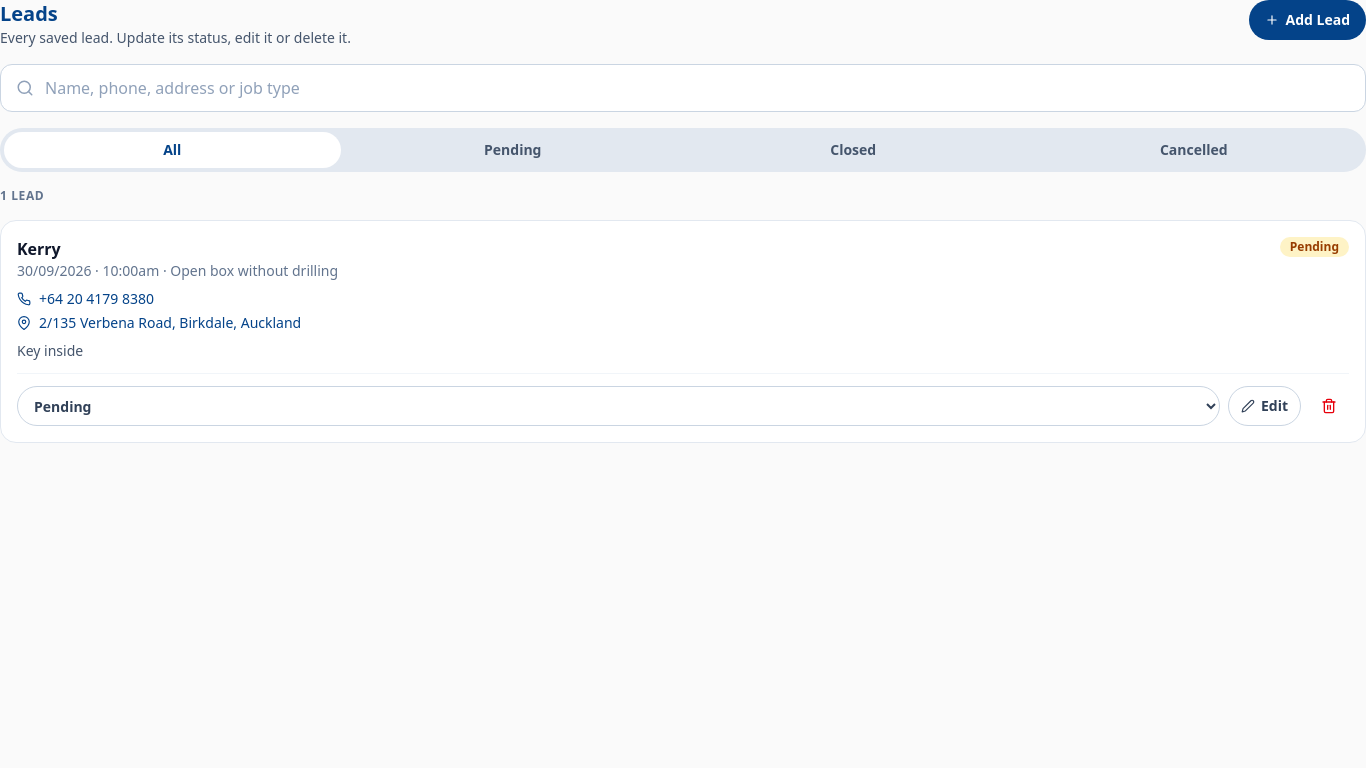
Scenario: LeadHistory › asks for a reason before cancelling a lead
Step 1. Select "Cancelled" in the dropdown named "Status for Kerry" → (618, 406), box [17,386,1220,426]
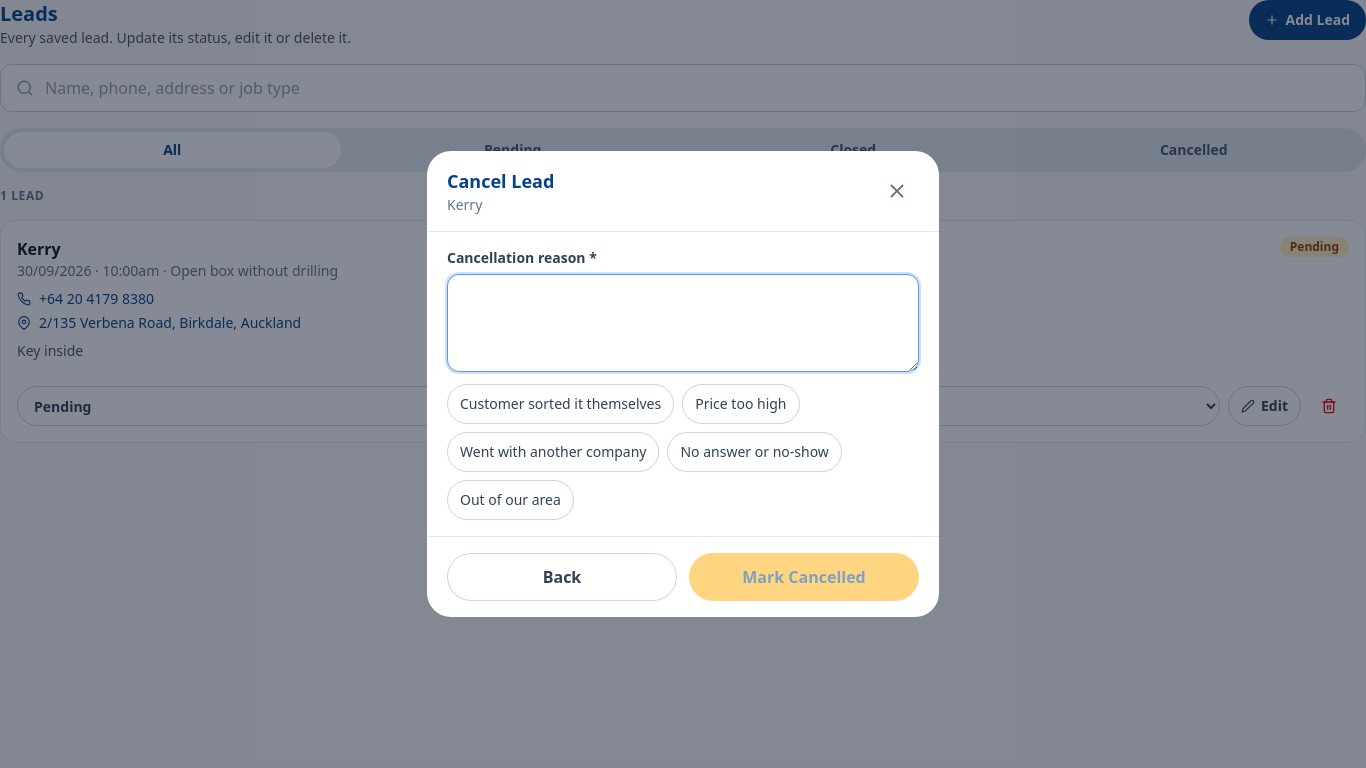
Step 2. Type "Found a spare key" into the text box labelled "Cancellation reason *" → (683, 323), box [447,274,919,372]
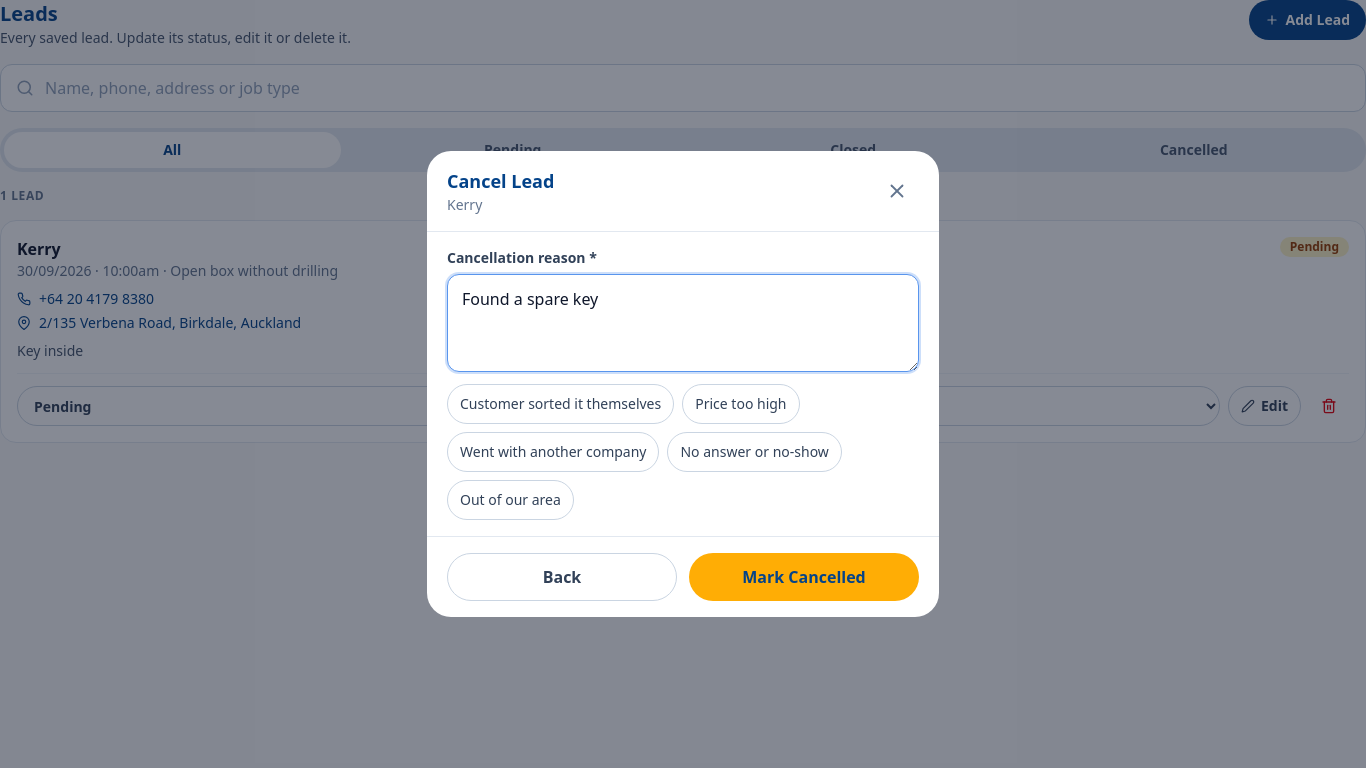
Step 3. Click the button "Mark Cancelled" → (804, 577), box [689,553,919,601]
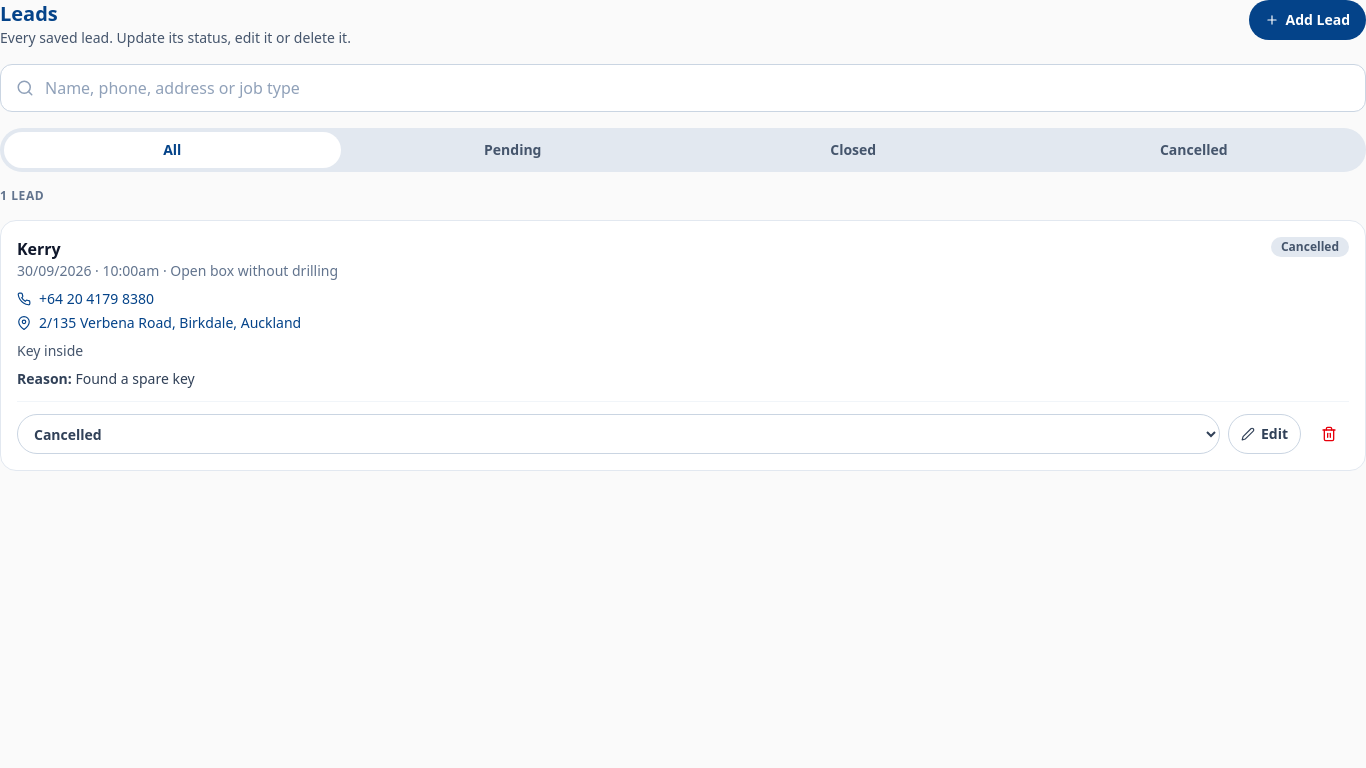
Now the text "Found a spare key" is shown, box [75,369,195,388]
